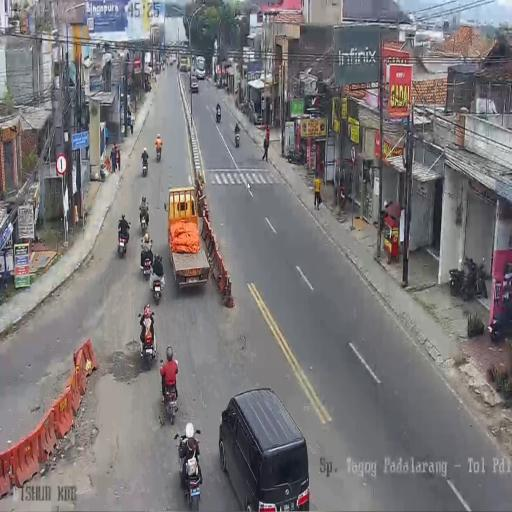3: (168, 188, 210, 292), (195, 56, 206, 80), (179, 54, 191, 74), (144, 51, 152, 77)
car: (220, 388, 308, 508), (190, 75, 199, 93), (170, 52, 176, 64)
truck: (175, 430, 203, 510), (160, 368, 179, 425), (138, 318, 157, 372), (150, 262, 164, 302), (286, 145, 304, 165), (117, 227, 128, 257), (139, 208, 148, 232), (141, 154, 148, 177), (155, 142, 162, 162), (234, 128, 240, 147), (215, 106, 221, 122), (129, 115, 134, 134), (153, 71, 157, 84)
